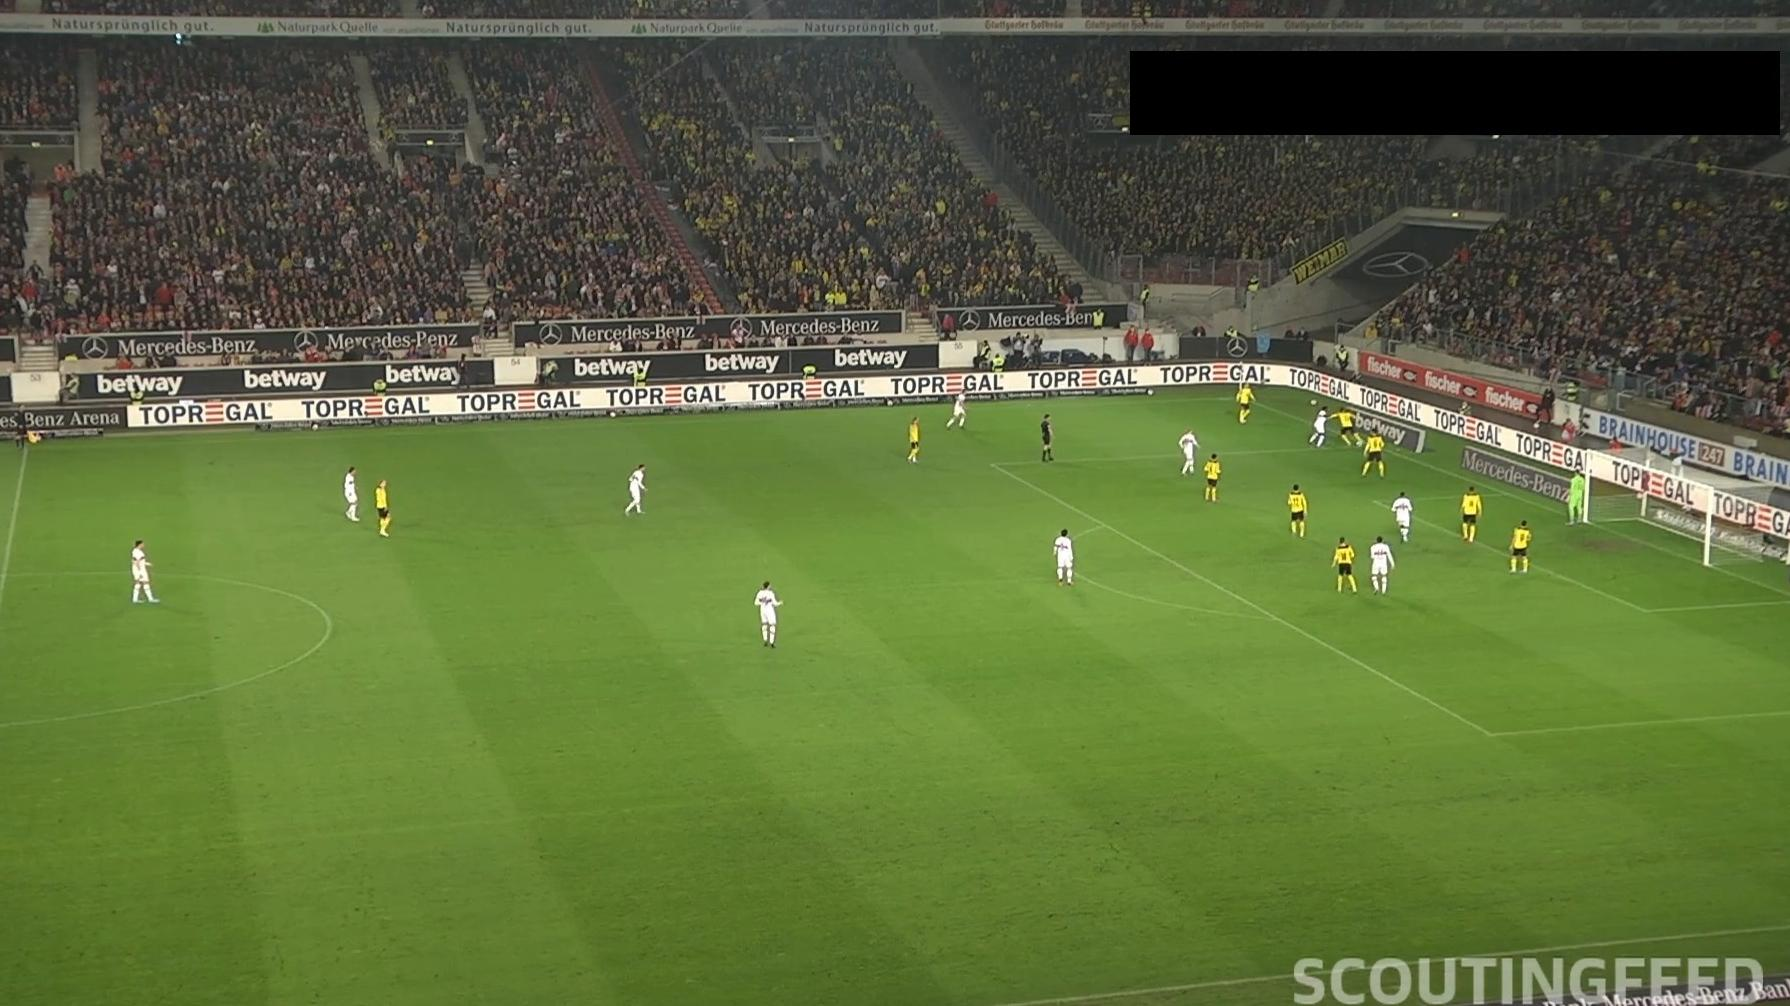ball: (1354, 439, 1365, 449)
